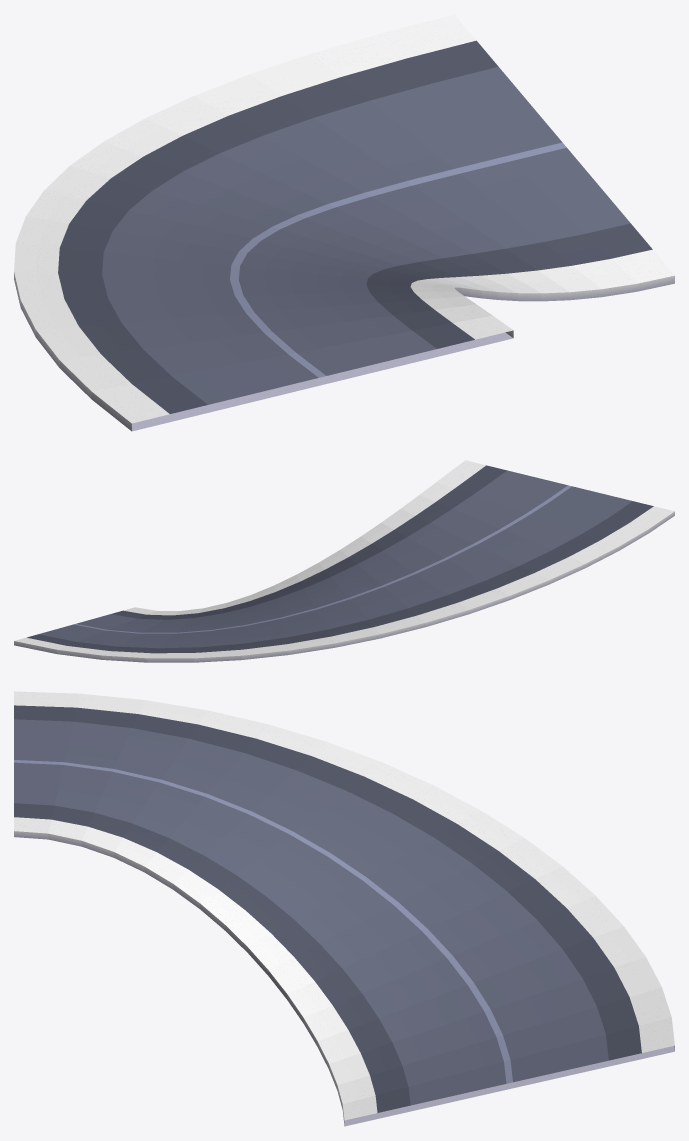
Rendered from road-Turn-Flat-HalfBankedRight-Down2-Right-Size2.glb.
3 renders of one model, top to bottom at view 1: azimuth 30°, elevation 25°; view 2: azimuth 150°, elevation 25°; view 3: azimuth 270°, elevation 25°, orthographic. The views are drawn at different scales.
Visible parts, largest first — view 1: road-Turn-Flat-HalfBankedRight-Down2-Right-Size2; view 2: road-Turn-Flat-HalfBankedRight-Down2-Right-Size2; view 3: road-Turn-Flat-HalfBankedRight-Down2-Right-Size2.
Part boxes in pixels (left/top/right/bottom): road-Turn-Flat-HalfBankedRight-Down2-Right-Size2: left=14, top=14, right=674, bottom=431; road-Turn-Flat-HalfBankedRight-Down2-Right-Size2: left=14, top=460, right=674, bottom=662; road-Turn-Flat-HalfBankedRight-Down2-Right-Size2: left=14, top=691, right=674, bottom=1126.
Size of the model in its own units: 2 by 0.52 by 2.
1 material, 1 textured.
